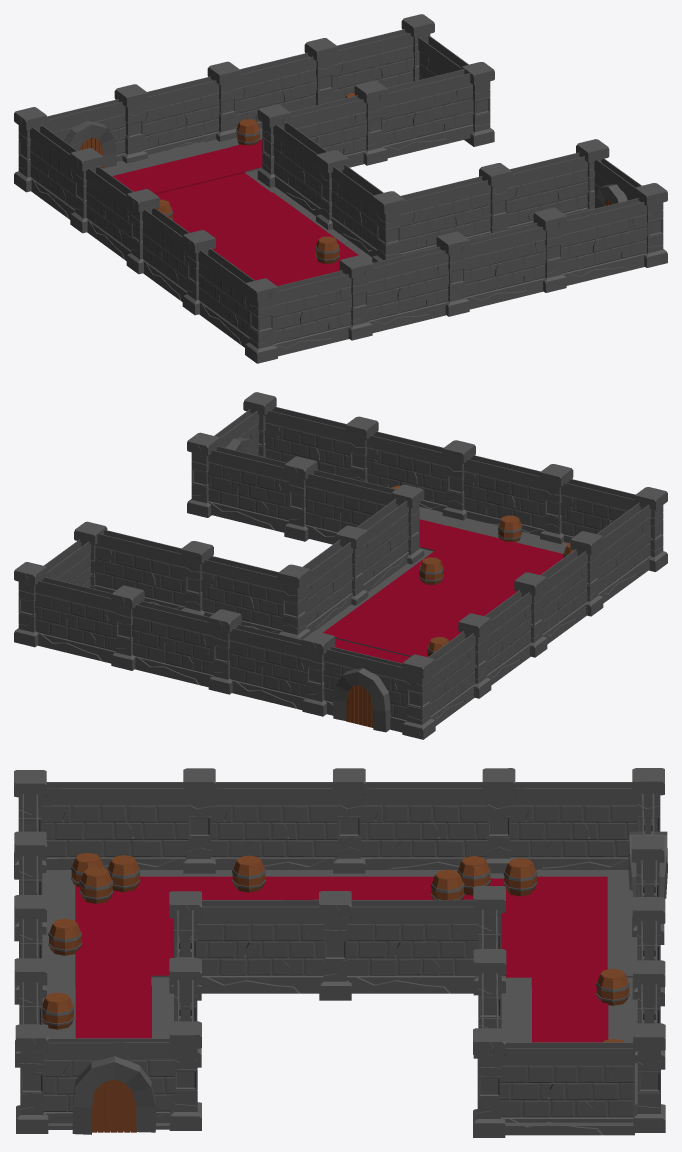
Rendered from room5.fbx.
3 views of the same model, one above another, from view 1: azimuth 30°, elevation 25°; view 2: azimuth 150°, elevation 25°; view 3: azimuth 270°, elevation 25° (orthographic). The views are drawn at different scales.
Visible parts, largest first — view 1: wall.021, Plane.005, wall.020, wall.022, wall.025, wall.023, pillar.028, wall.024, pillar.027, pillar.034, gate--NORMALS-OK.002, pillar.032 (+9 smaller); view 2: Plane.005, wall.021, wall.022, wall.020, wall.025, wall.023, pillar.027, wall.024, pillar.028, gate--NORMALS-OK.002, pillar.034, pillar.030 (+9 smaller); view 3: Plane.005, wall.020, wall.024, gate--NORMALS-OK.001, wall.027, pillar.027, pillar.028, pillar.034, pillar.031, pillar.030, pillar.032, pillar.029 (+15 smaller).
Boxes of the visible parts, x1,y1,x2,y2 form: wall.021: [273, 198, 647, 356]; Plane.005: [102, 128, 372, 286]; wall.020: [30, 124, 254, 347]; wall.022: [143, 29, 413, 154]; wall.025: [289, 69, 473, 167]; wall.023: [400, 152, 588, 255]; pillar.028: [245, 207, 566, 363]; wall.024: [273, 121, 383, 257]; pillar.027: [14, 107, 215, 315]; pillar.034: [207, 14, 434, 141]; gate--NORMALS-OK.002: [44, 99, 125, 168]; pillar.032: [257, 80, 387, 187]; Plane.005: [315, 507, 567, 663]; wall.021: [264, 406, 635, 542]; wall.022: [34, 577, 306, 709]; wall.020: [428, 502, 651, 725]; wall.025: [94, 529, 282, 633]; wall.023: [207, 446, 395, 544]; pillar.027: [402, 531, 603, 739]; wall.024: [303, 498, 408, 632]; pillar.028: [345, 416, 667, 571]; gate--NORMALS-OK.002: [323, 646, 406, 732]; pillar.034: [14, 562, 241, 694]; pillar.030: [187, 432, 317, 541]; Plane.005: [42, 868, 637, 1125]; wall.020: [41, 782, 636, 869]; wall.024: [197, 899, 477, 993]; gate--NORMALS-OK.001: [43, 1038, 174, 1134]; wall.027: [500, 1042, 634, 1135]; pillar.027: [183, 768, 664, 873]; pillar.028: [14, 770, 47, 1067]; pillar.034: [632, 897, 665, 1132]; pillar.031: [169, 891, 351, 1000]; pillar.030: [169, 958, 201, 1130]; pillar.032: [473, 886, 506, 1058]; pillar.029: [15, 1024, 48, 1133].
Bounding box in the file's own units: 2076 × 382 × 2127.
